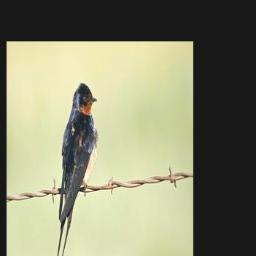Swallow: (54, 80, 98, 256)
